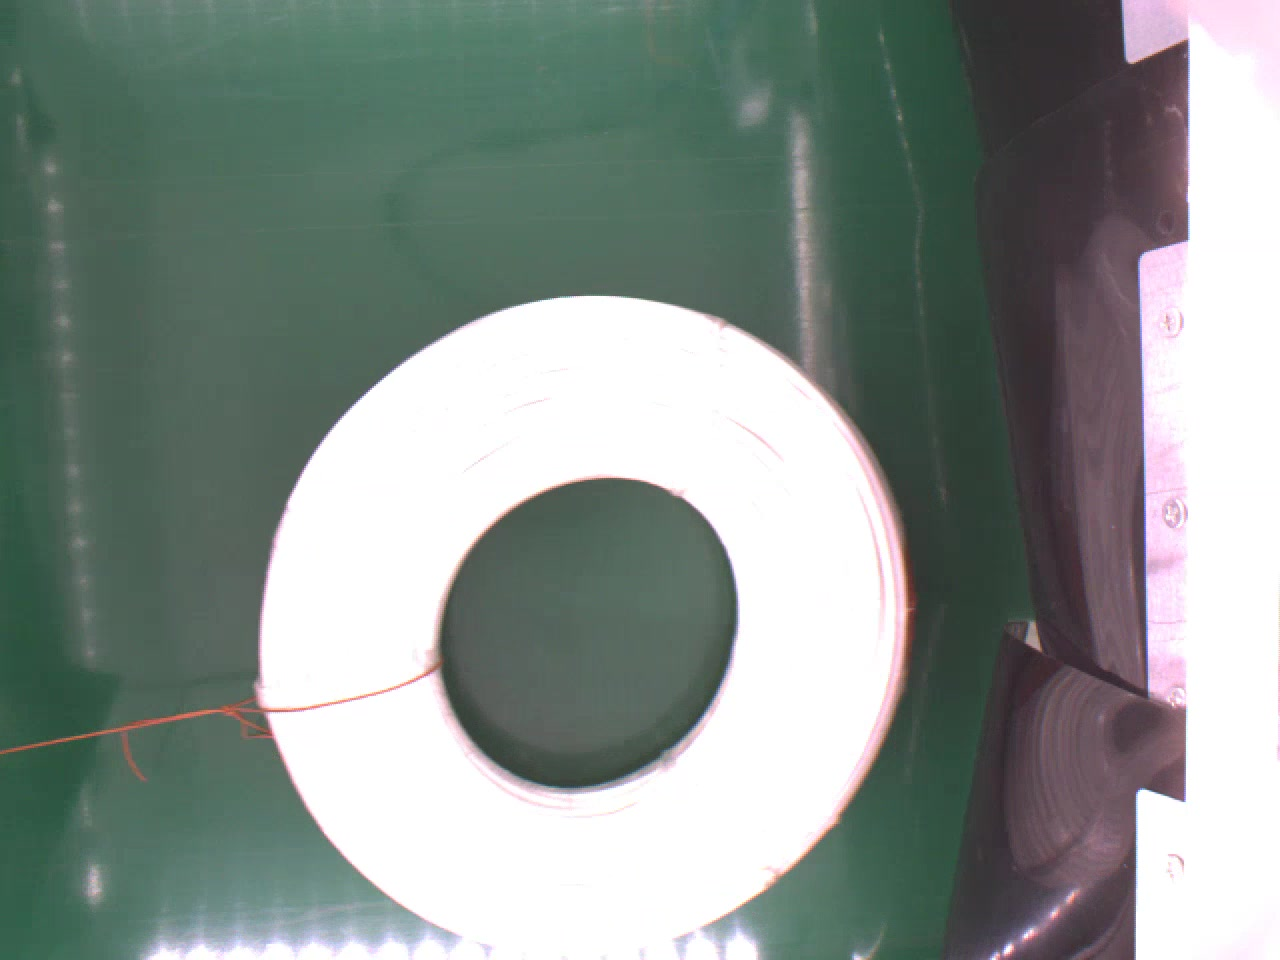white: (252, 292, 917, 954)
